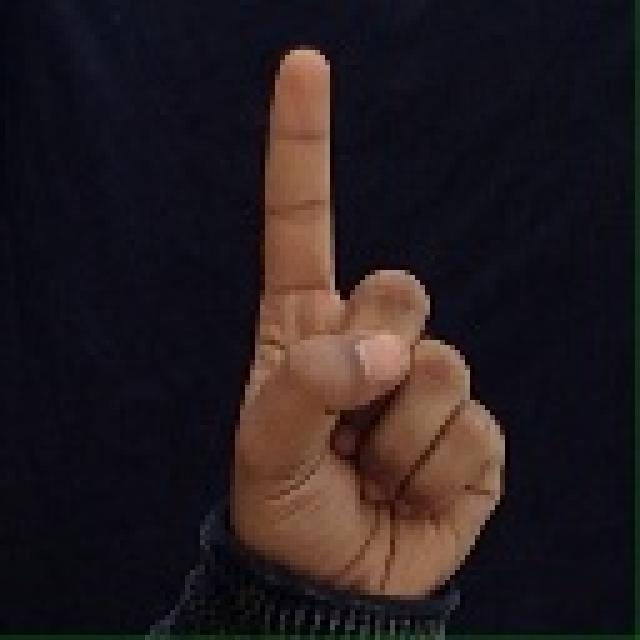Numeric-1: (236, 37, 506, 599)
